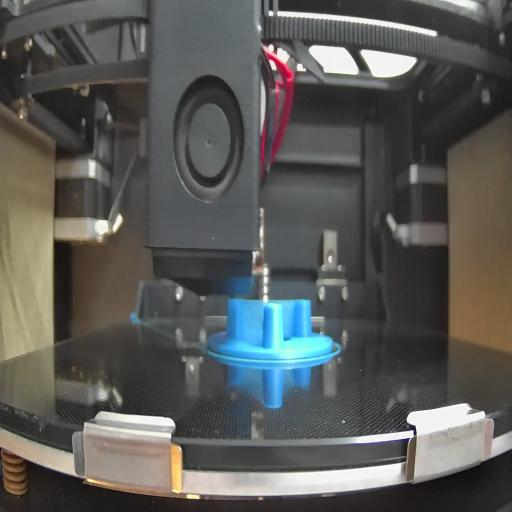stringing: (237, 298, 262, 348), (284, 303, 296, 340)
